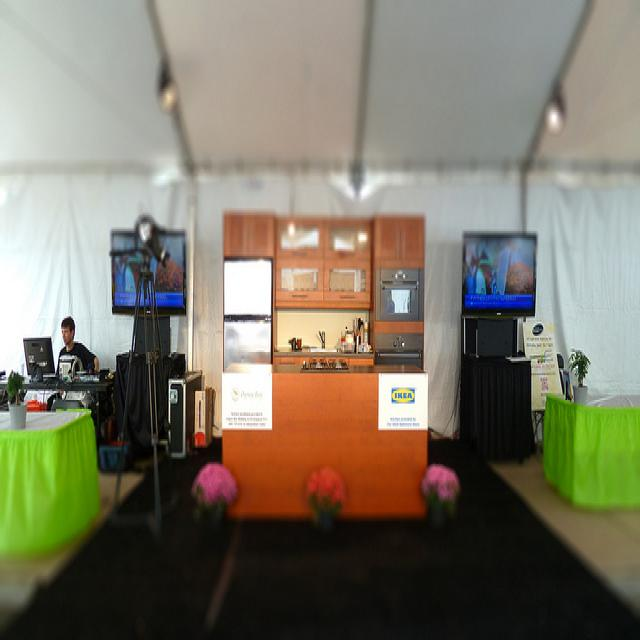chair: (51, 397, 87, 415), (94, 392, 110, 425)
dining table: (0, 411, 100, 567)
